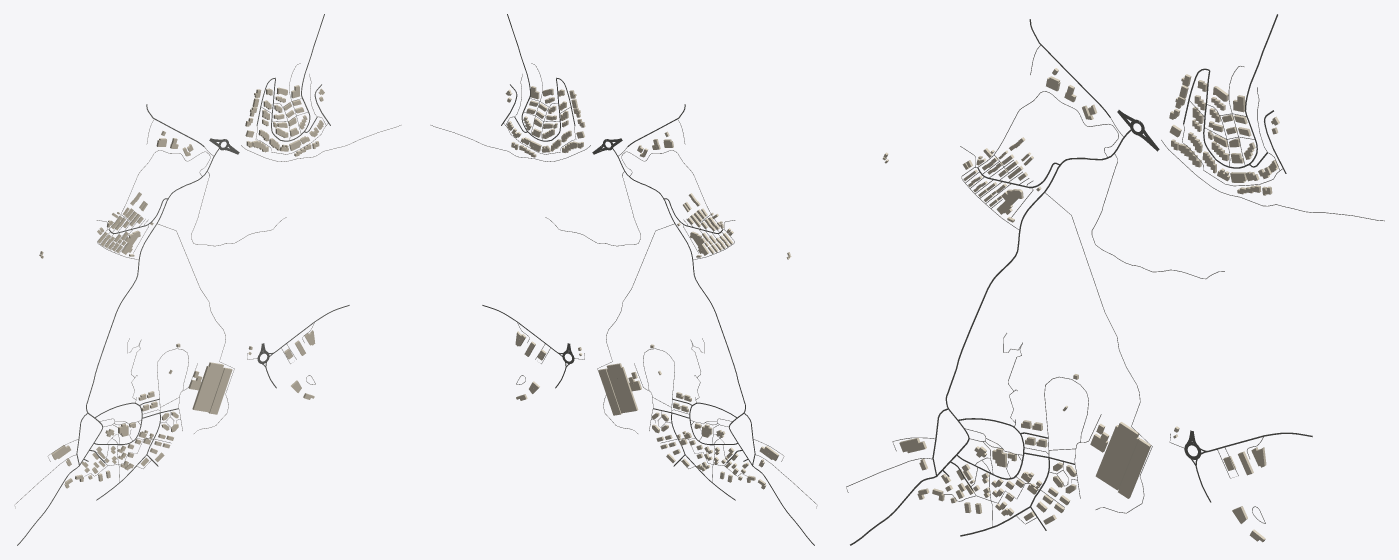
File: historic-palestine-09_22_3514_3164.glb
3 views of the same model, side by side, from view 1: azimuth 30°, elevation 25°; view 2: azimuth 150°, elevation 25°; view 3: azimuth 330°, elevation 25° (orthographic). The views are drawn at different scales.
Visible parts, largest first — view 1: Building_.044, Road .001; view 2: Building_.044, Road .001; view 3: Building_.044, Road .001, Building_.042.
Boxes of the visible parts, box(x1,y1,x2,y2) form: Building_.044: box(192, 362, 223, 412); Road .001: box(17, 147, 219, 545); Building_.044: box(606, 363, 638, 413); Road .001: box(612, 147, 814, 545); Building_.044: box(1095, 422, 1139, 490); Road .001: box(850, 129, 1131, 545); Building_.042: box(1118, 438, 1151, 498).
Bounding box in the file's own units: 1291 × 1456 × 8.7.
